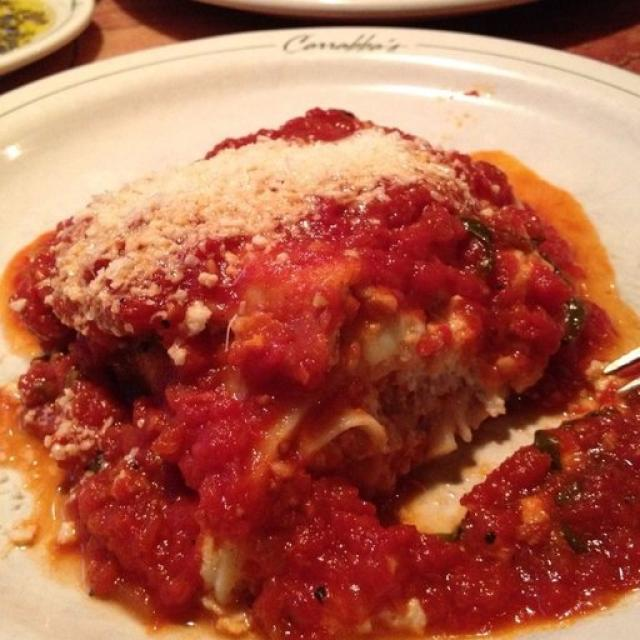Lasagna: (39, 86, 614, 524)
